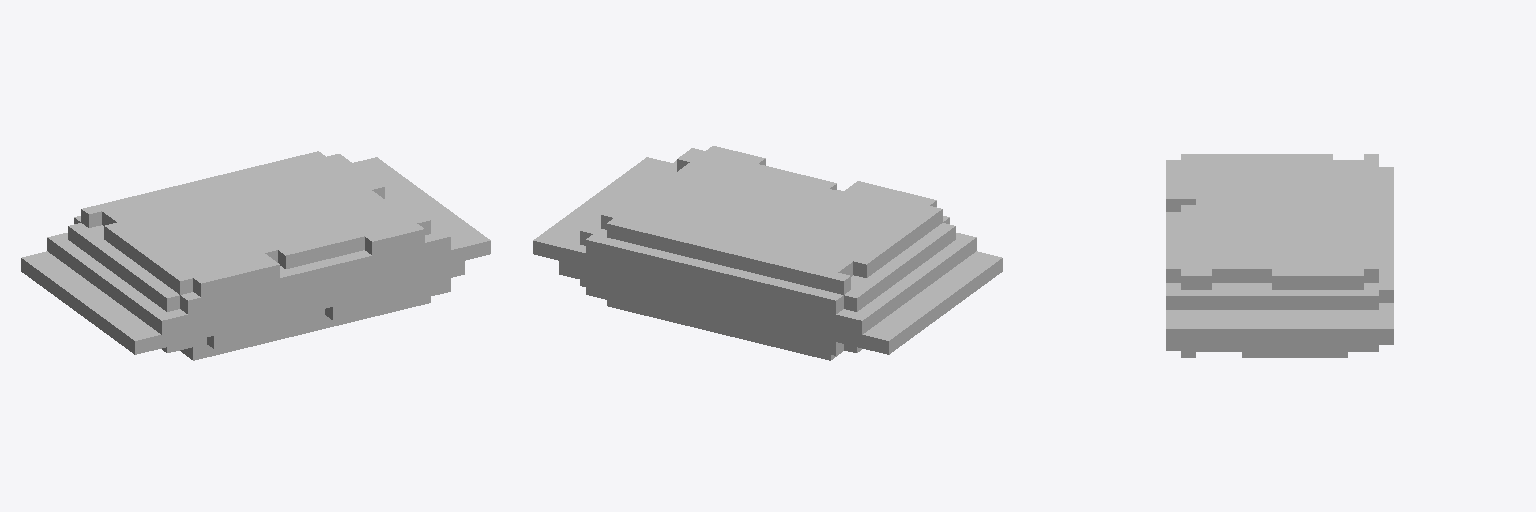
File: air crisps.obj
3 views of the same model, side by side, from view 1: azimuth 30°, elevation 25°; view 2: azimuth 150°, elevation 25°; view 3: azimuth 270°, elevation 25° (orthographic).
Parts seen in each view (by area): view 1: object 1; view 2: object 1; view 3: object 1.
Boxes of the visible parts, <box> form: object 1: <box>21,151,490,360</box>; object 1: <box>533,146,1002,360</box>; object 1: <box>1166,154,1393,357</box>.
Bounding box in the file's own units: 2.7 × 0.6 × 1.5.